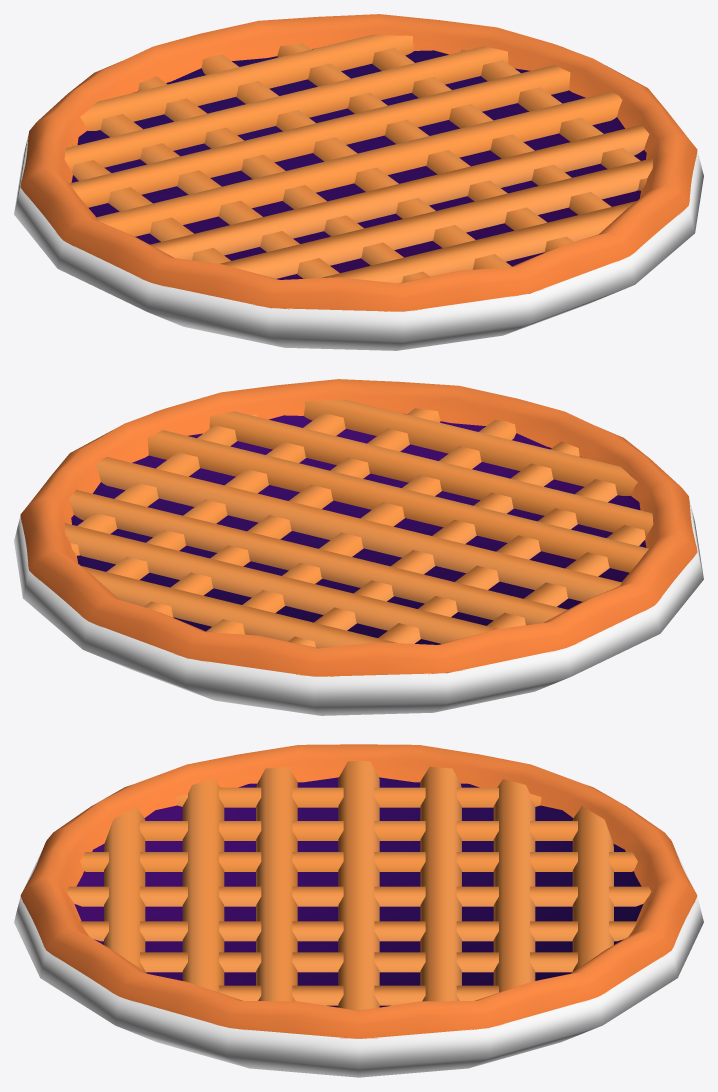
File: SM_Pie_2.fbx
The picture shows the model from 3 angles, top to bottom: view 1: azimuth 30°, elevation 25°; view 2: azimuth 150°, elevation 25°; view 3: azimuth 270°, elevation 25°; orthographic projection.
Parts seen in each view (by area): view 1: SM_Pie_2; view 2: SM_Pie_2; view 3: SM_Pie_2.
Part boxes in pixels (x1,y1,x2,y2): SM_Pie_2: (14, 14, 703, 350); SM_Pie_2: (14, 379, 703, 715); SM_Pie_2: (14, 744, 703, 1077).
Size of the model in its own units: 33.1 by 6.13 by 33.1.
1 material, 1 textured.
